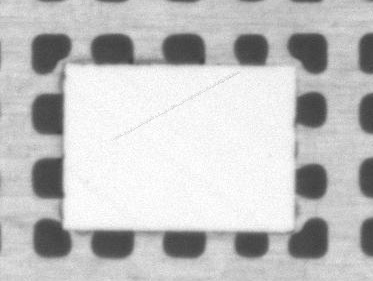DIE_CRACK: (149, 54, 317, 105)
